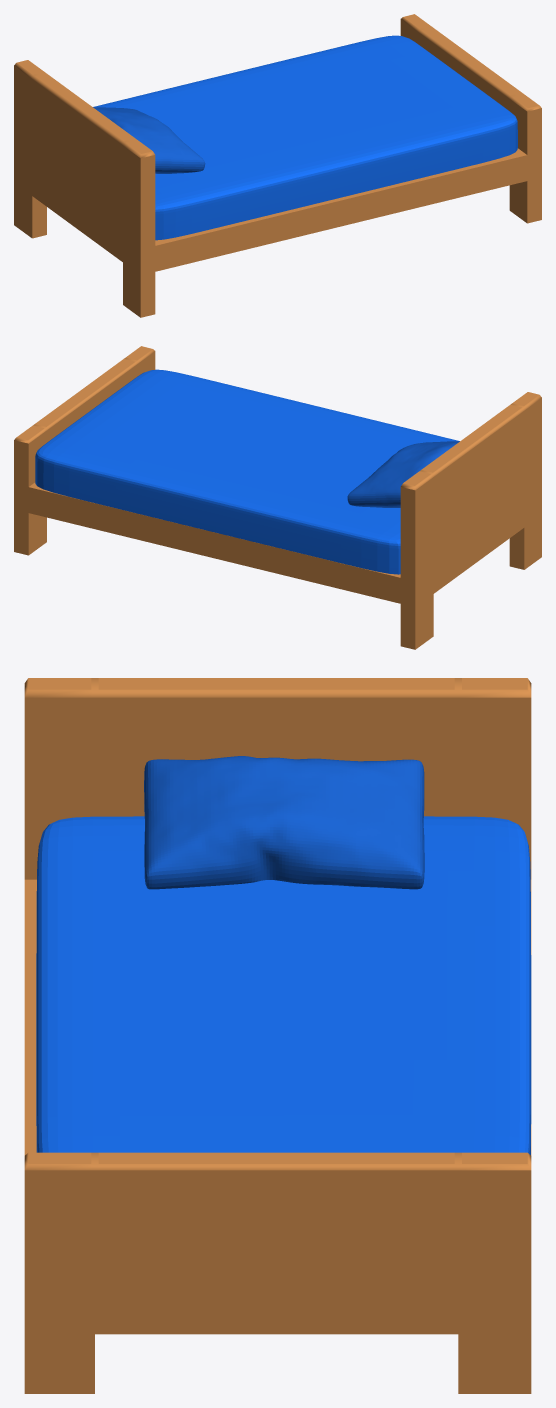
File: Yataklar1.fbx
3 views of the same model, one above another, from view 1: azimuth 30°, elevation 25°; view 2: azimuth 150°, elevation 25°; view 3: azimuth 270°, elevation 25° (orthographic). The views are drawn at different scales.
Visible parts, largest first — view 1: Cube.002; view 2: Cube.002; view 3: Cube.002.
Boxes of the visible parts, x1,y1,x2,y2 form: Cube.002: (14, 14, 541, 317); Cube.002: (14, 346, 541, 649); Cube.002: (24, 678, 531, 1393).
Bounding box in the file's own units: 702 × 272 × 384.
